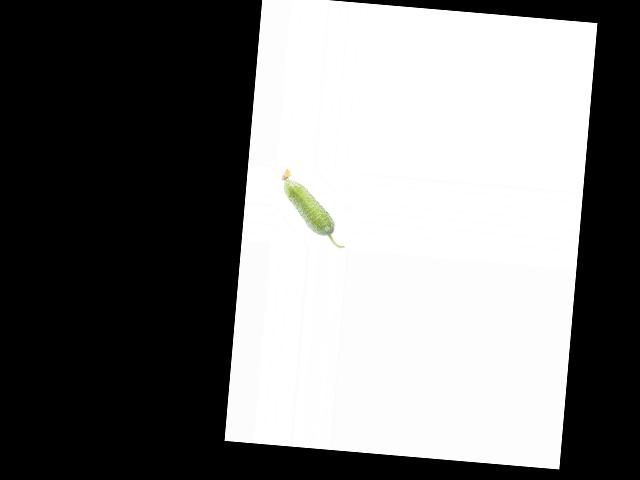cucumber: (276, 167, 351, 248)
